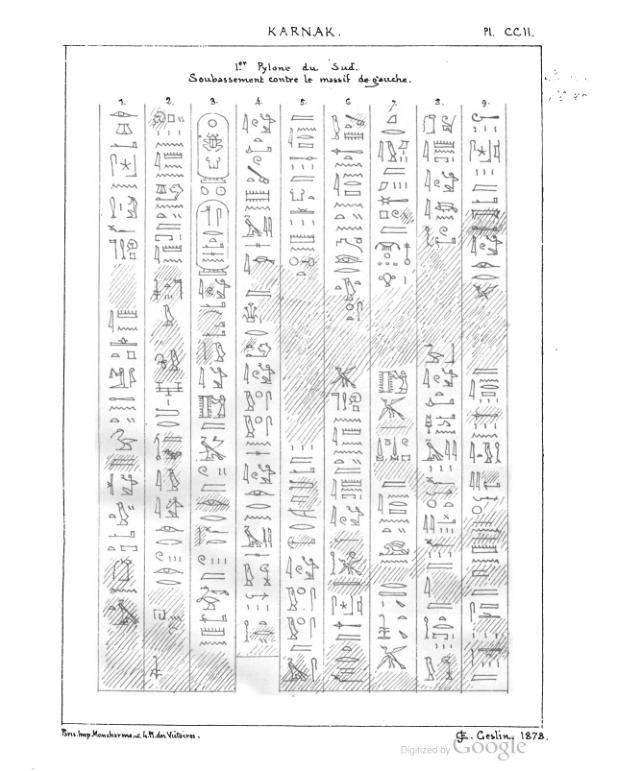circle: (194, 199, 233, 278), (194, 109, 231, 186)
